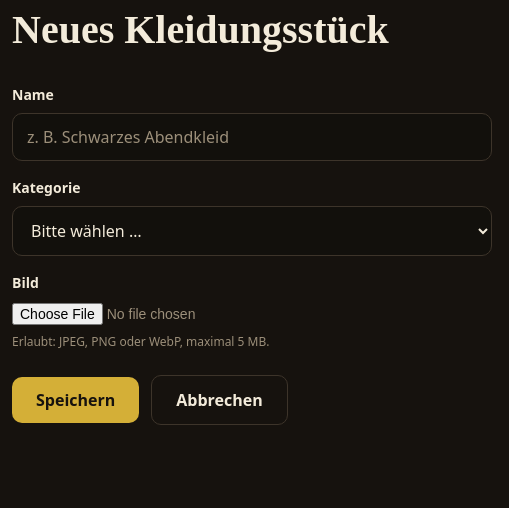
Test case: ItemFormPage (Anlegen) › zeigt eine Meldung, wenn keine Kategorie gewählt ist
The width and height of the screenshot is (509, 508).
Type "Schwarzes Kleid" into the field labelled "Name" at (252, 137), box top-left (12, 113), bottom-right (492, 161)
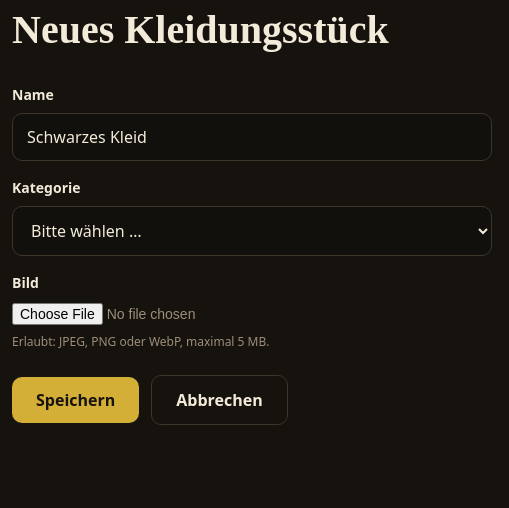
Click the button "Speichern" at (76, 400), box top-left (12, 377), bottom-right (139, 423)
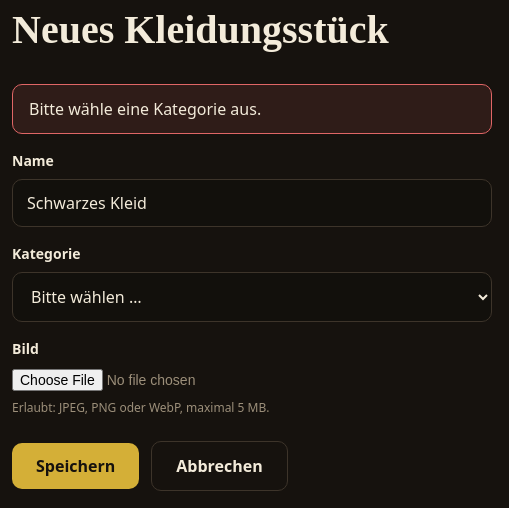
Expected: the message reads "Bitte wähle eine Kategorie aus.", top-left (29, 98), bottom-right (261, 120)
